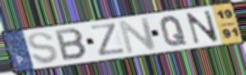B: (53, 27, 89, 62)
N: (117, 16, 159, 55), (185, 9, 221, 45)
Q: (159, 15, 189, 48)
S: (26, 31, 60, 65)
Z: (89, 22, 128, 58)
